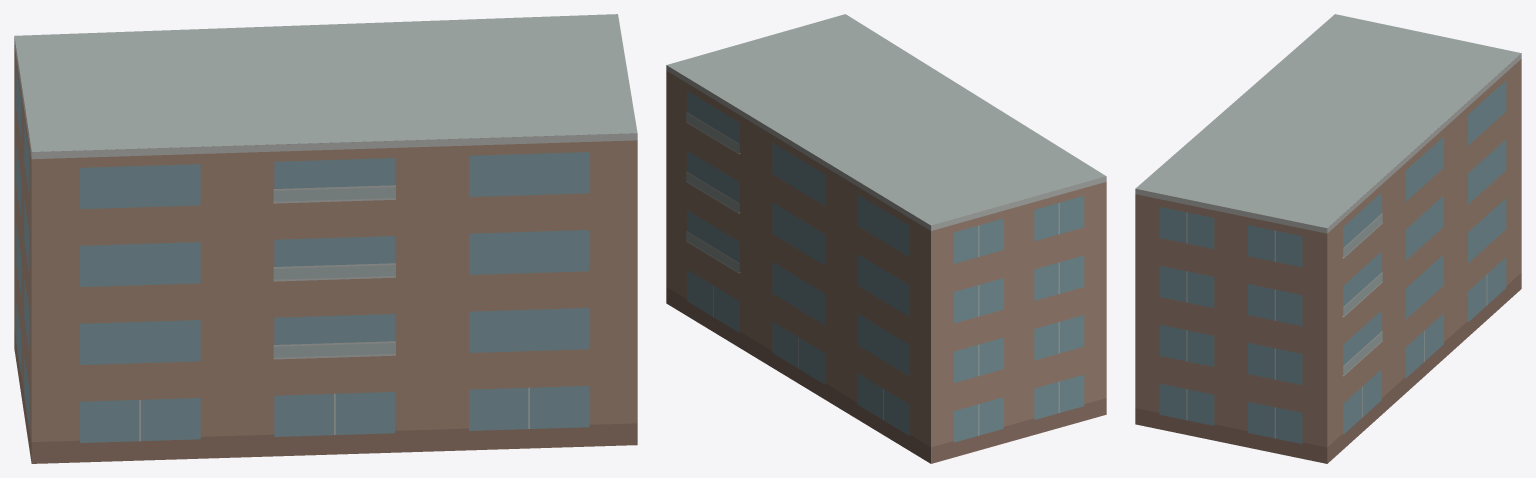
The model's file is survey-upis-32886179.glb.
3 renders of one model, left to right at view 1: azimuth 30°, elevation 25°; view 2: azimuth 150°, elevation 25°; view 3: azimuth 270°, elevation 25°, orthographic. The views are drawn at different scales.
Visible parts, largest first — view 1: survey-upis-32886179.tmp; view 2: survey-upis-32886179.tmp; view 3: survey-upis-32886179.tmp.
Boxes of the visible parts, x1,y1,x2,y2 form: survey-upis-32886179.tmp: [14, 14, 637, 463]; survey-upis-32886179.tmp: [666, 14, 1106, 463]; survey-upis-32886179.tmp: [1135, 14, 1521, 463].
Bounding box in the file's own units: 20.78 × 10.65 × 15.84.
